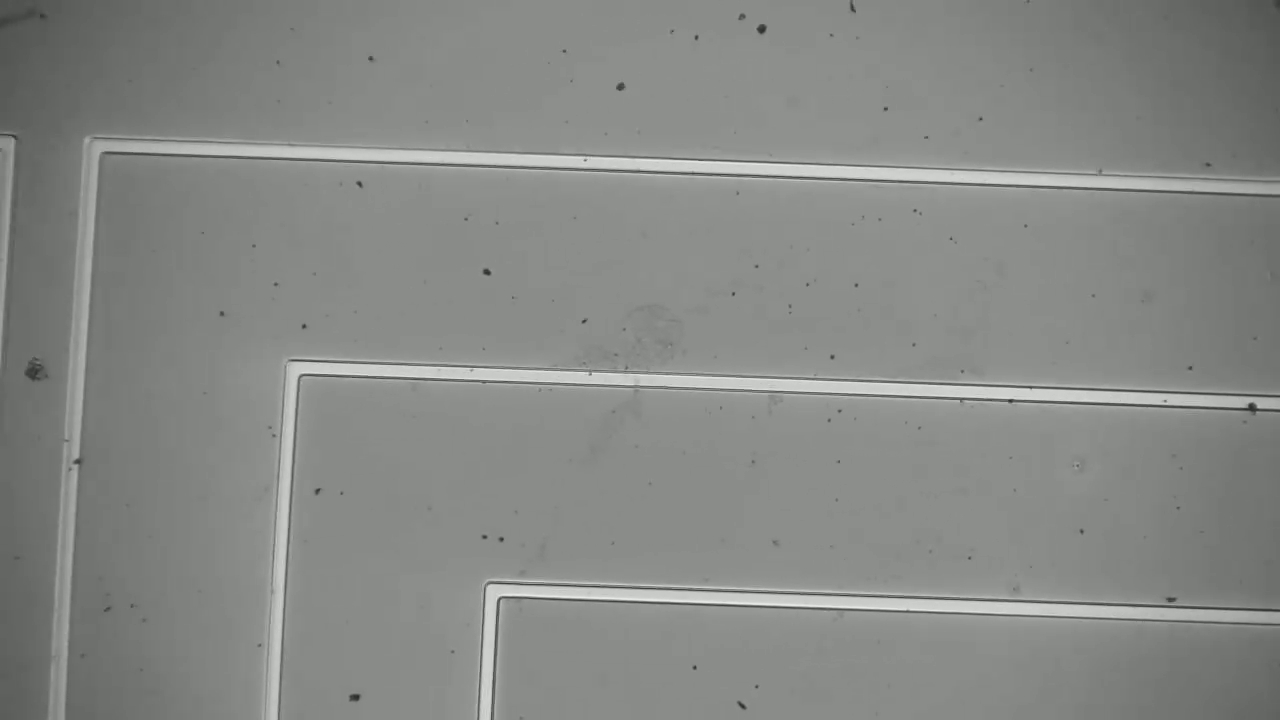stains_enbedded: (1241, 388, 1261, 417)
